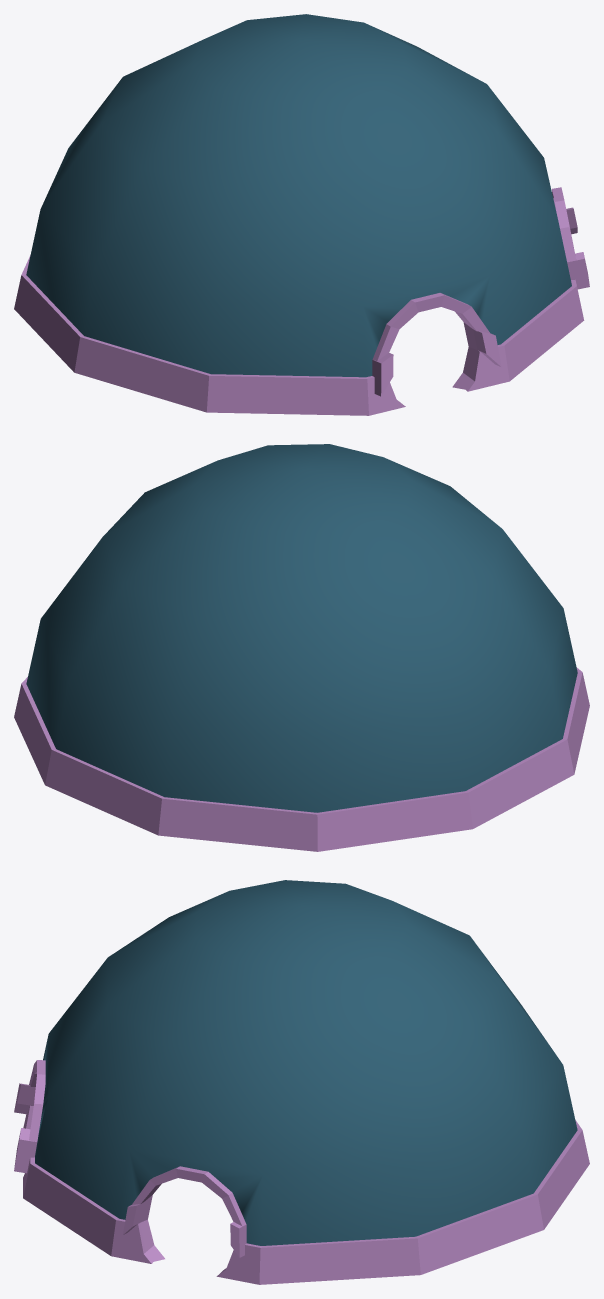
The model's file is cúpula invernadero.fbx.
3 renders of one model, top to bottom at view 1: azimuth 30°, elevation 25°; view 2: azimuth 150°, elevation 25°; view 3: azimuth 270°, elevation 25°, orthographic.
Parts seen in each view (by area): view 1: Sphere.012, Sphere.013; view 2: Sphere.012, Sphere.013; view 3: Sphere.012, Sphere.013.
Boxes of the visible parts, box(x1,y1,x2,y2) form: Sphere.012: box(26, 14, 571, 377); Sphere.013: box(14, 187, 589, 415); Sphere.012: box(26, 444, 577, 812); Sphere.013: box(14, 667, 589, 851); Sphere.012: box(35, 880, 577, 1245); Sphere.013: box(14, 1060, 589, 1284).
Size of the model in its own units: 3410 by 1715 by 3429.
